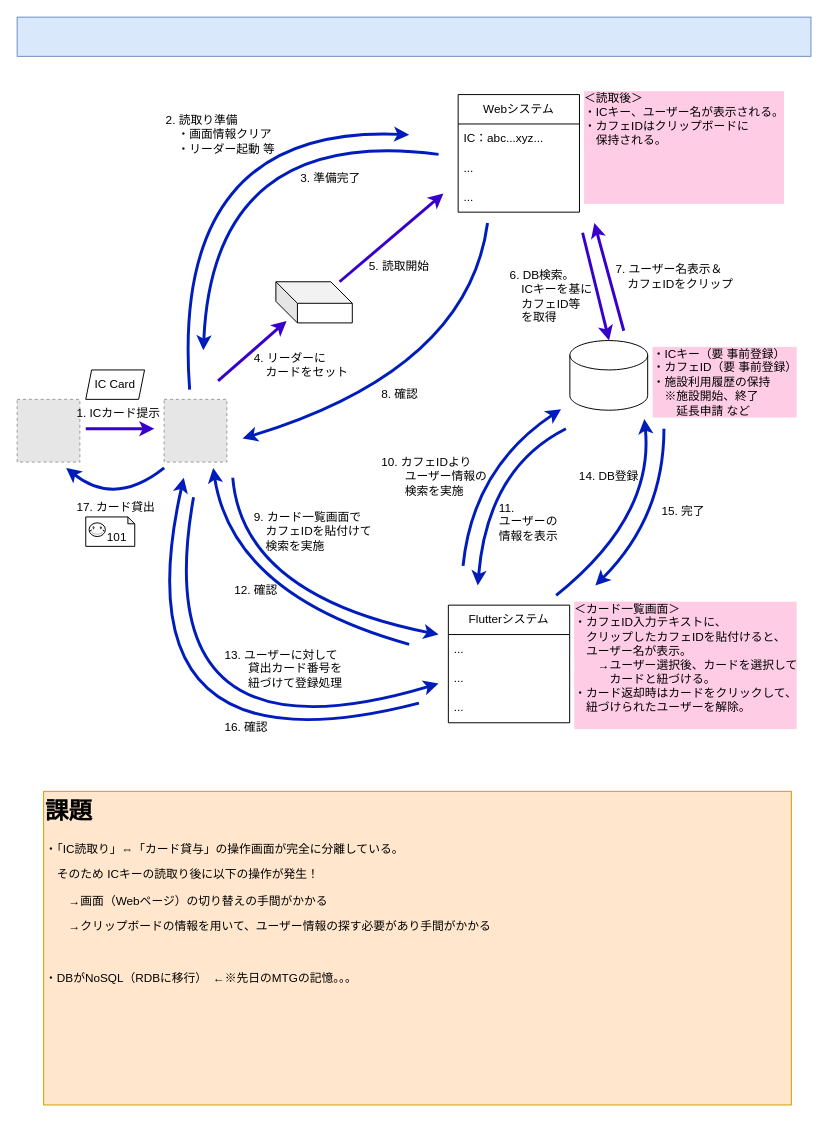
The diagram is 835 pixels wide and 1125 high, and some of its shapes have lost their labels. Grey dashed boxes stand in for pictures. The shapes that lost their labels are listed below. From the top down, each one's centre as x and y in pixels, then its label:
At point (413, 36): "現行の受付作業（ICカード利用時）".
At point (608, 375): "ＤＢ１".
